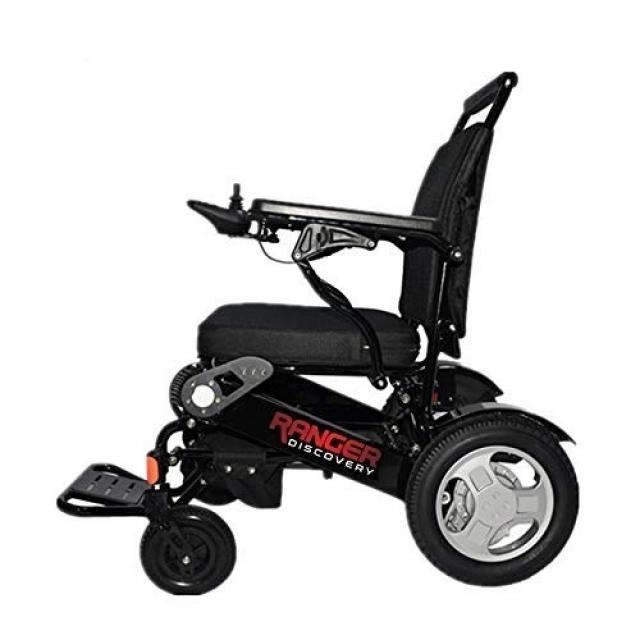wheelchair: (30, 57, 591, 615)
